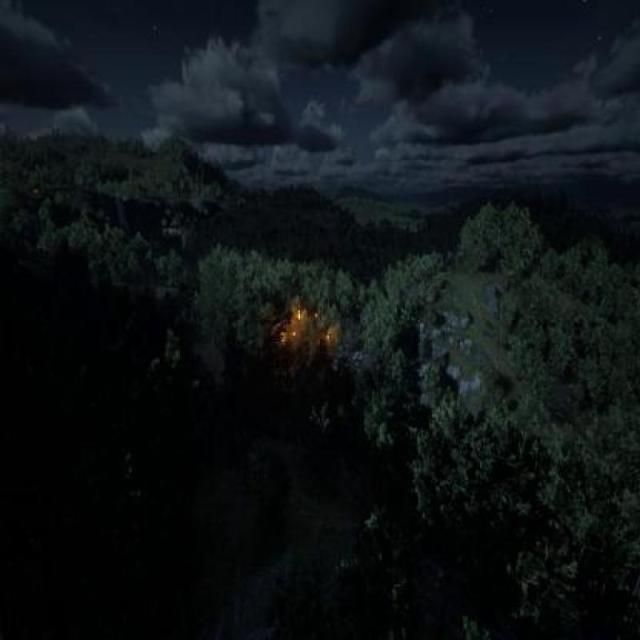Fire: (272, 286, 338, 364)
